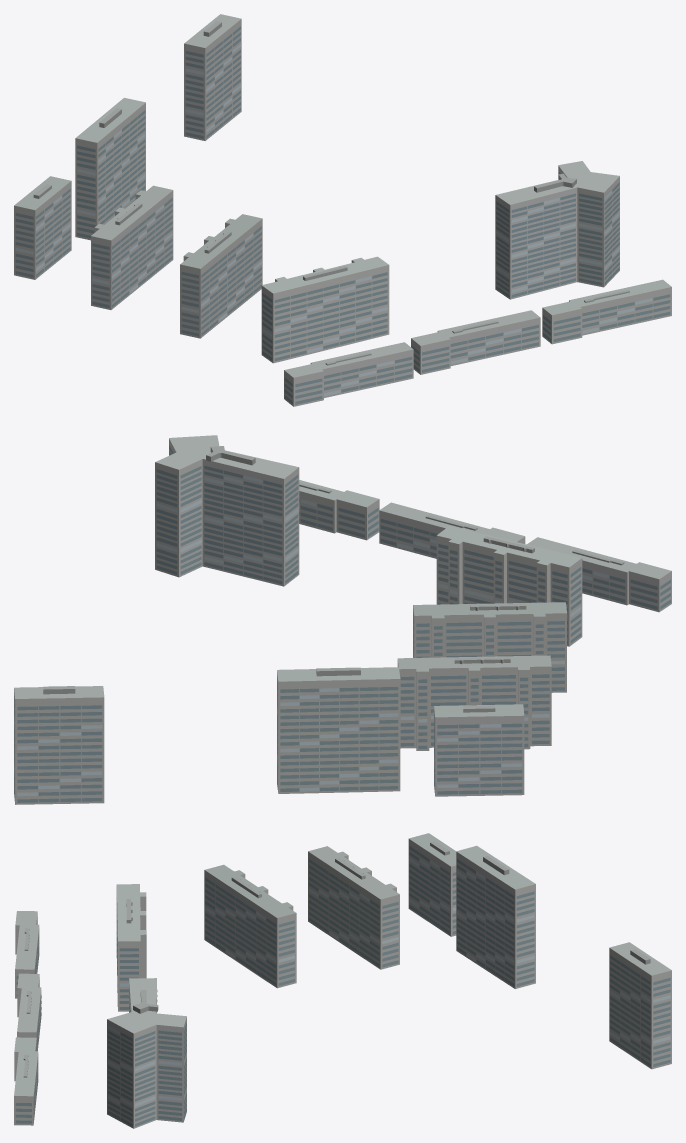
The model's file is apt-a13408003.glb.
3 renders of one model, top to bottom at view 1: azimuth 30°, elevation 25°; view 2: azimuth 150°, elevation 25°; view 3: azimuth 270°, elevation 25°, orthographic. The views are drawn at different scales.
Parts seen in each view (by area): view 1: apt-a13408003; view 2: apt-a13408003; view 3: apt-a13408003.
Boxes of the visible parts, x1,y1,x2,y2 form: apt-a13408003: (14,14,671,406); apt-a13408003: (14,435,671,804); apt-a13408003: (14,833,671,1128).
Size of the model in its own units: 252 by 54.18 by 311.
